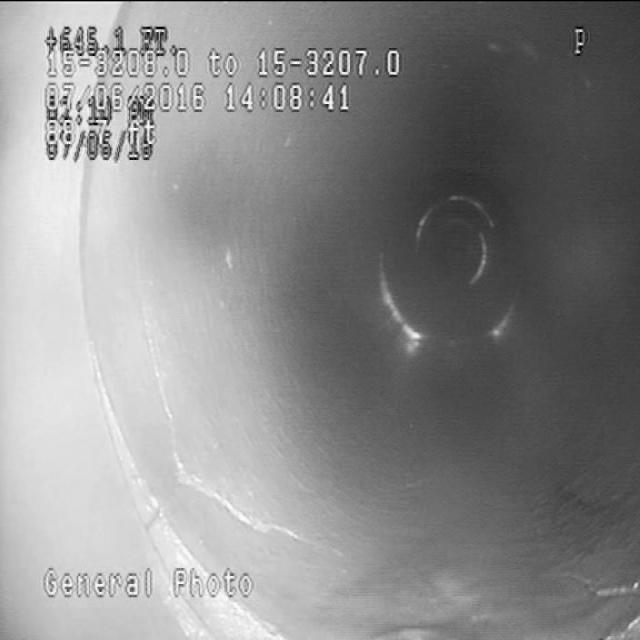Crack: (116, 269, 242, 522)
